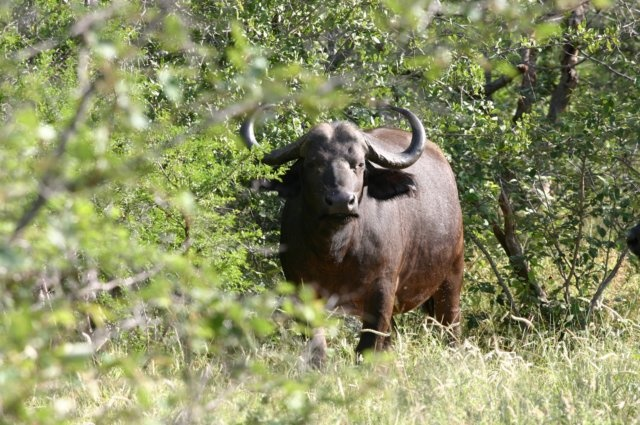buffalo: (239, 104, 467, 362)
